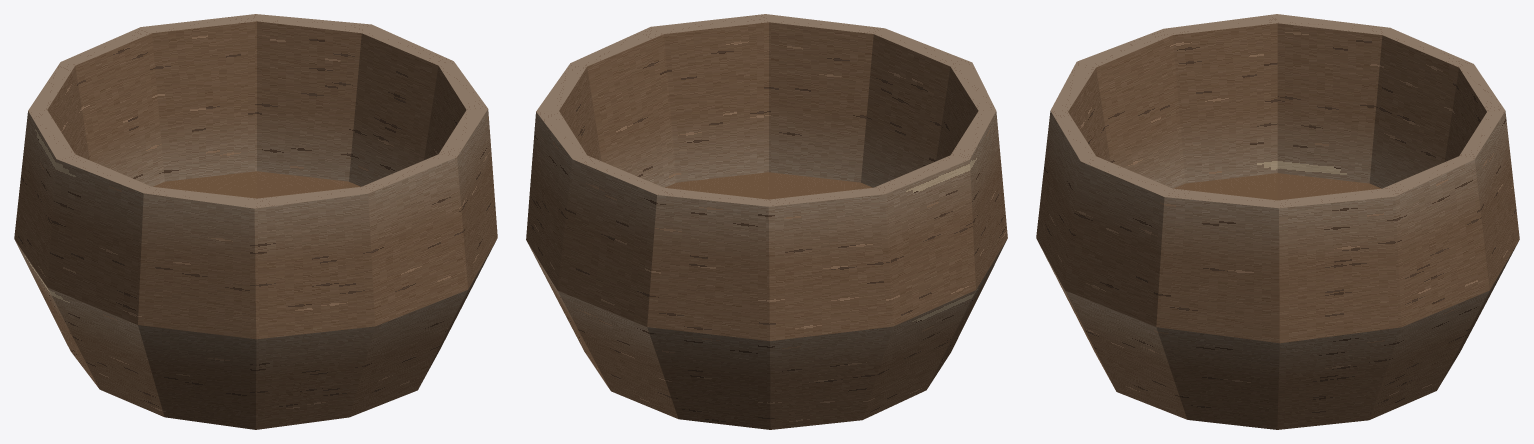
Rendered from BatNhangHam.glb.
3 views of the same model, side by side, from view 1: azimuth 30°, elevation 25°; view 2: azimuth 150°, elevation 25°; view 3: azimuth 270°, elevation 25° (orthographic).
Visible parts, largest first — view 1: BatNhangHam; view 2: BatNhangHam; view 3: BatNhangHam.
Part boxes in pixels (x1,y1,x2,y2): BatNhangHam: (14,14,497,429); BatNhangHam: (526,14,1007,429); BatNhangHam: (1036,14,1519,429).
Size of the model in its own units: 0.1904 by 0.104 by 0.1893.
1 material, 1 textured.
